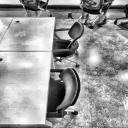chair_fail: (46, 67, 84, 118)
chair_success: (54, 22, 86, 68)
